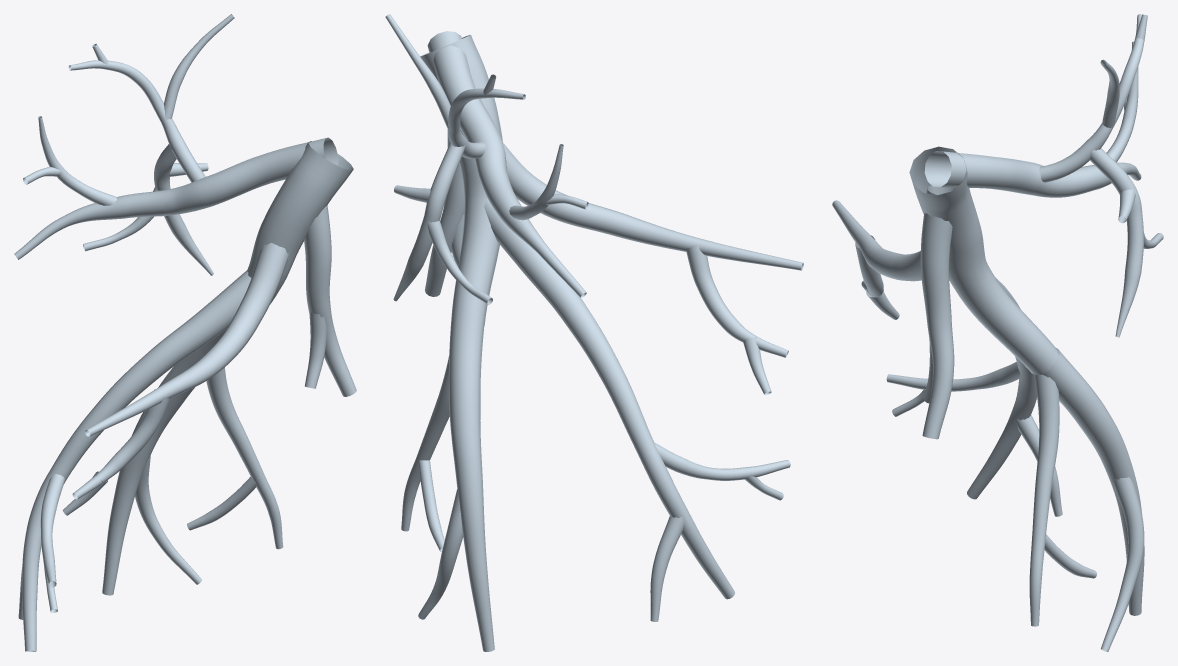
The model's file is visceras-right-inferior-lobar-bronchus.glb.
3 renders of one model, left to right at view 1: azimuth 30°, elevation 25°; view 2: azimuth 150°, elevation 25°; view 3: azimuth 270°, elevation 25°, orthographic. The views are drawn at different scales.
Visible parts, largest first — view 1: Superior segmental bronchus of right lung (BVI), Lateral basal segmental bronchus of right lung (BIX), Posterior basal segmental bronchus of right lung (BX), Anterior basal segmental bronchus of right lung (BVIII), Right inferior lobar bronchus, Medial basal segmental bronchus of right lung (BVII); view 2: Superior segmental bronchus of right lung (BVI), Lateral basal segmental bronchus of right lung (BIX), Posterior basal segmental bronchus of right lung (BX), Anterior basal segmental bronchus of right lung (BVIII), Right inferior lobar bronchus, Medial basal segmental bronchus of right lung (BVII); view 3: Superior segmental bronchus of right lung (BVI), Posterior basal segmental bronchus of right lung (BX), Right inferior lobar bronchus, Medial basal segmental bronchus of right lung (BVII), Lateral basal segmental bronchus of right lung (BIX), Anterior basal segmental bronchus of right lung (BVIII).
Boxes of the visible parts, box(x1,y1,x2,y2) form: Superior segmental bronchus of right lung (BVI): box(14, 14, 338, 275); Lateral basal segmental bronchus of right lung (BIX): box(18, 270, 251, 651); Posterior basal segmental bronchus of right lung (BX): box(102, 349, 283, 595); Anterior basal segmental bronchus of right lung (BVIII): box(62, 243, 288, 515); Right inferior lobar bronchus: box(200, 141, 353, 355); Medial basal segmental bronchus of right lung (BVII): box(304, 205, 356, 396); Superior segmental bronchus of right lung (BVI): box(385, 14, 588, 304); Lateral basal segmental bronchus of right lung (BIX): box(484, 199, 790, 621); Posterior basal segmental bronchus of right lung (BX): box(401, 319, 494, 651); Anterior basal segmental bronchus of right lung (BVIII): box(503, 143, 803, 395); Right inferior lobar bronchus: box(420, 34, 502, 325); Medial basal segmental bronchus of right lung (BVII): box(425, 129, 464, 296); Superior segmental bronchus of right lung (BVI): box(924, 14, 1163, 337); Posterior basal segmental bronchus of right lung (BX): box(1029, 348, 1144, 651); Right inferior lobar bronchus: box(909, 146, 1058, 374); Medial basal segmental bronchus of right lung (BVII): box(920, 185, 955, 439); Lateral basal segmental bronchus of right lung (BIX): box(886, 277, 1062, 516); Anterior basal segmental bronchus of right lung (BVIII): box(832, 200, 921, 319).
Size of the model in its own units: 0.0984 by 0.1629 by 0.0801.
